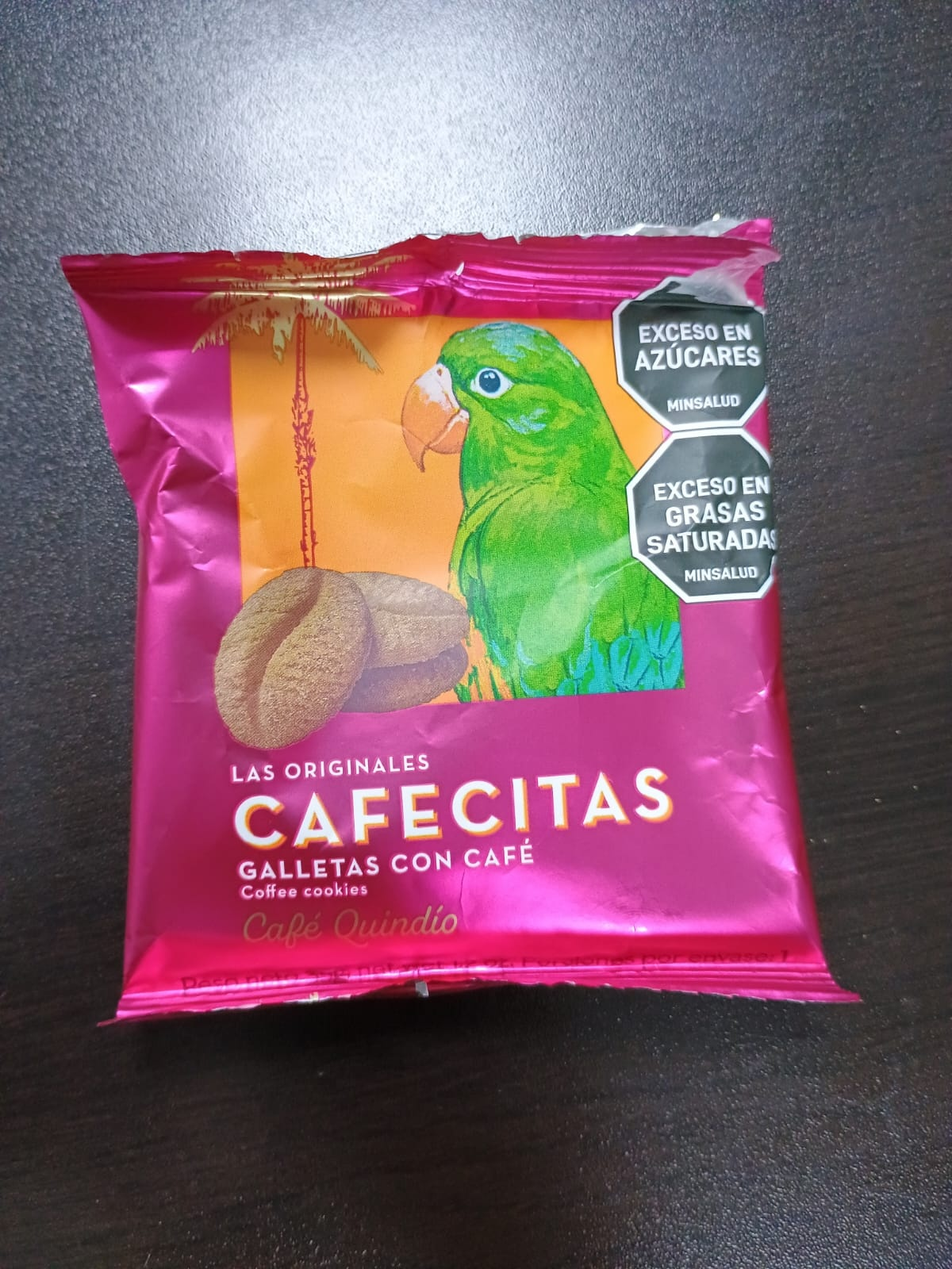Ordinario: (62, 212, 860, 1028)
